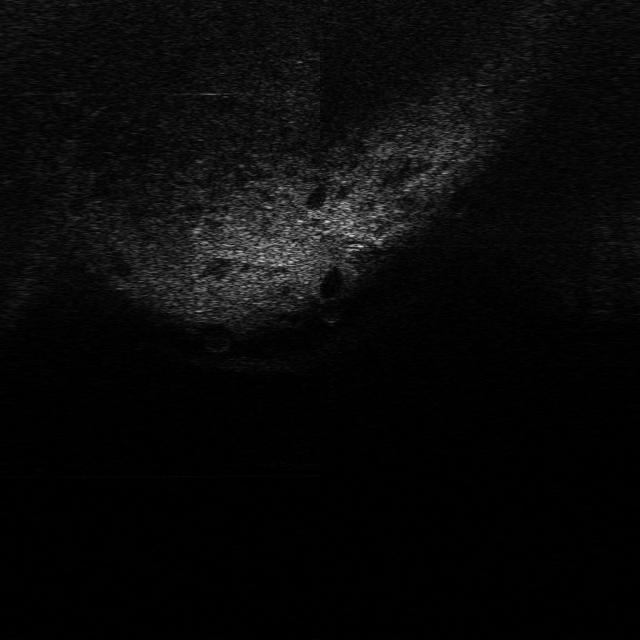ball: (312, 298, 349, 328)
